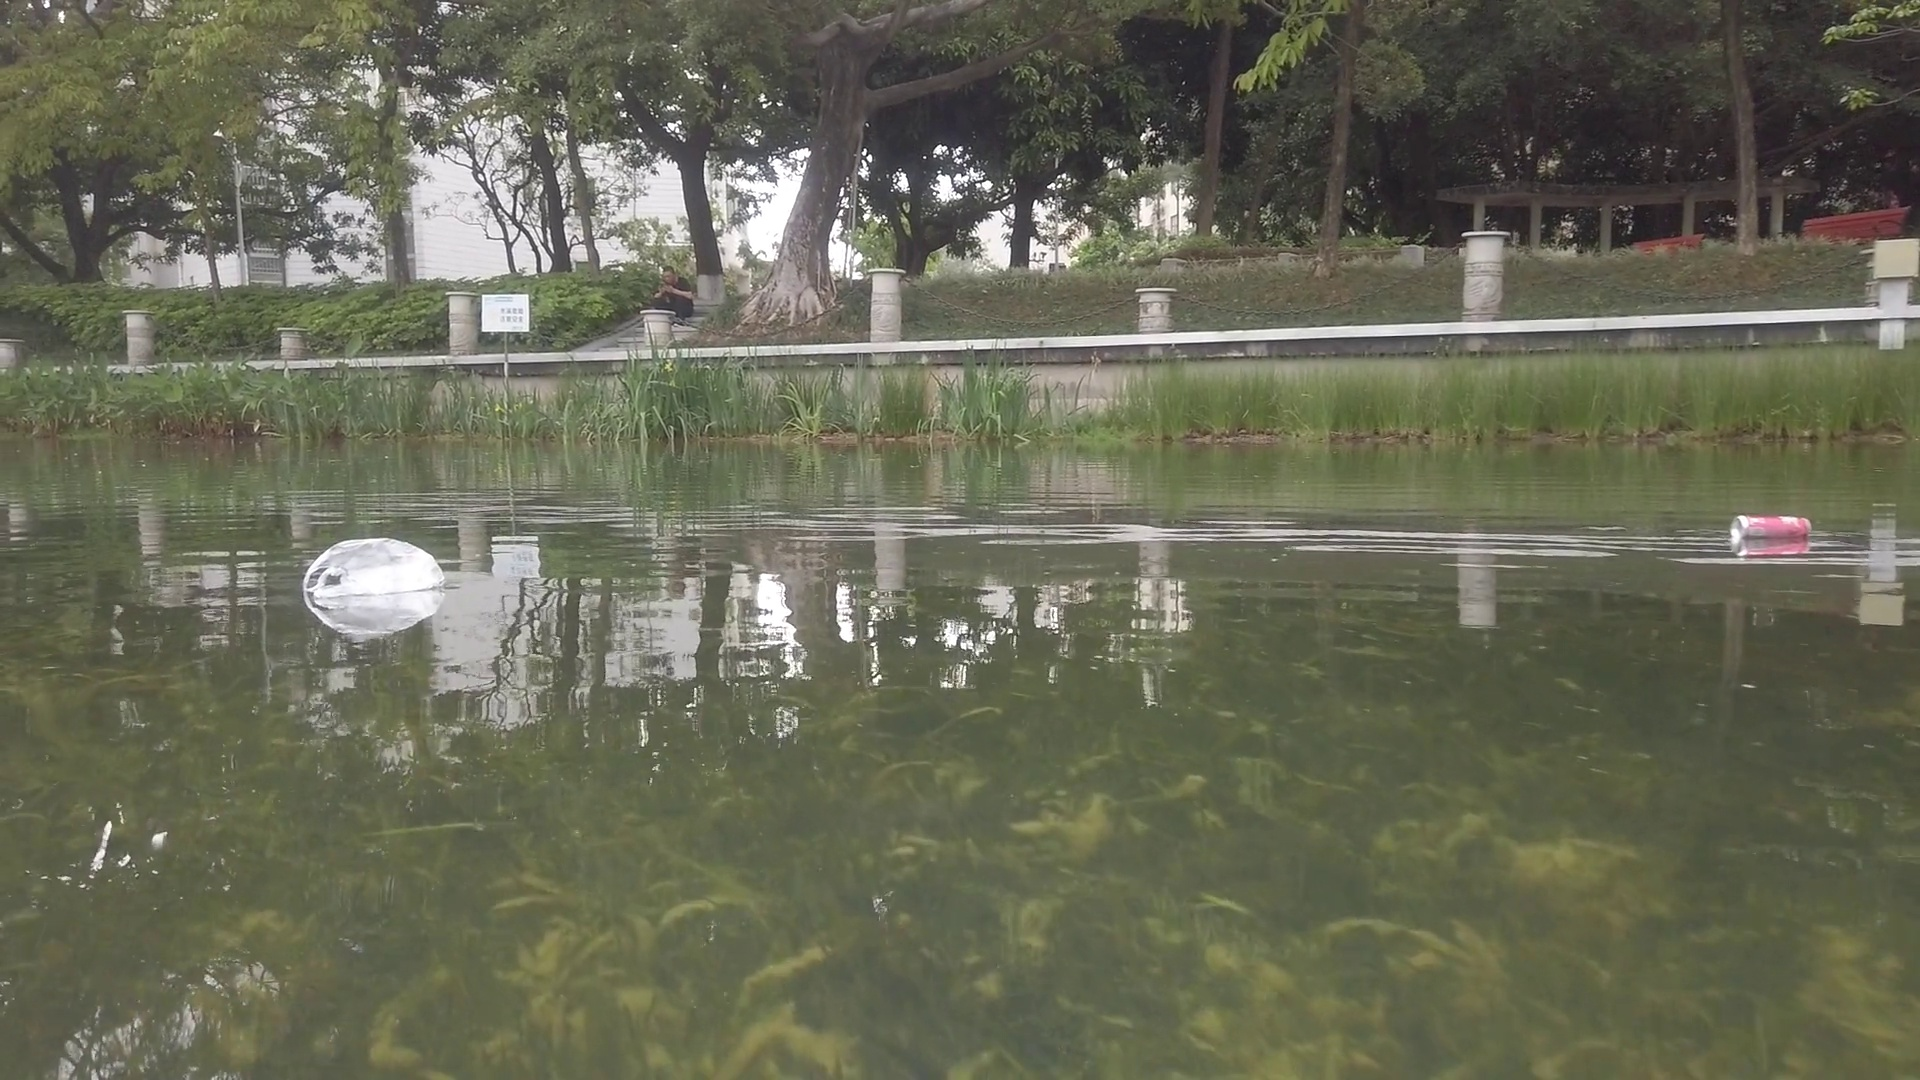bottle: (1734, 513, 1817, 545)
plastic: (301, 535, 440, 591)
